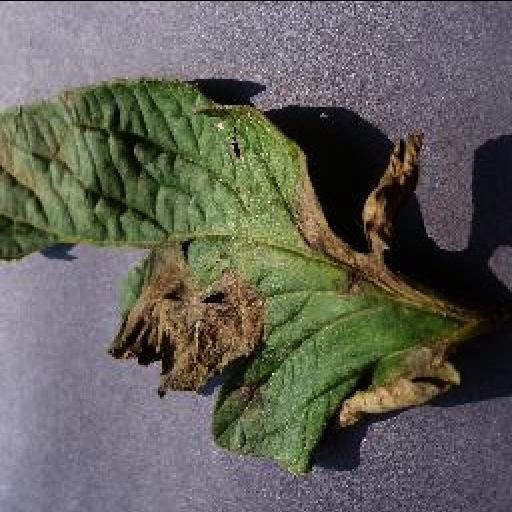disease_tomato: (0, 74, 466, 474)
